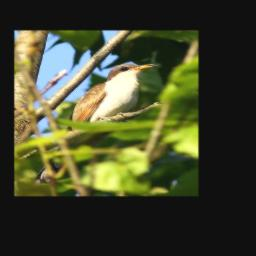Cuckoo: (30, 60, 160, 187)
